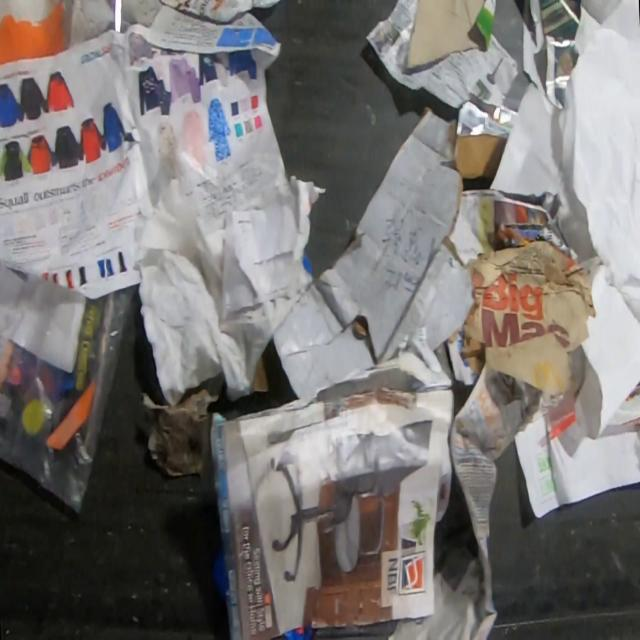cardboard: (270, 103, 487, 400), (405, 0, 498, 70), (453, 133, 508, 180), (250, 353, 271, 392)
rigid_plastic: (66, 0, 161, 48)
soft_plastic: (0, 257, 140, 518)
